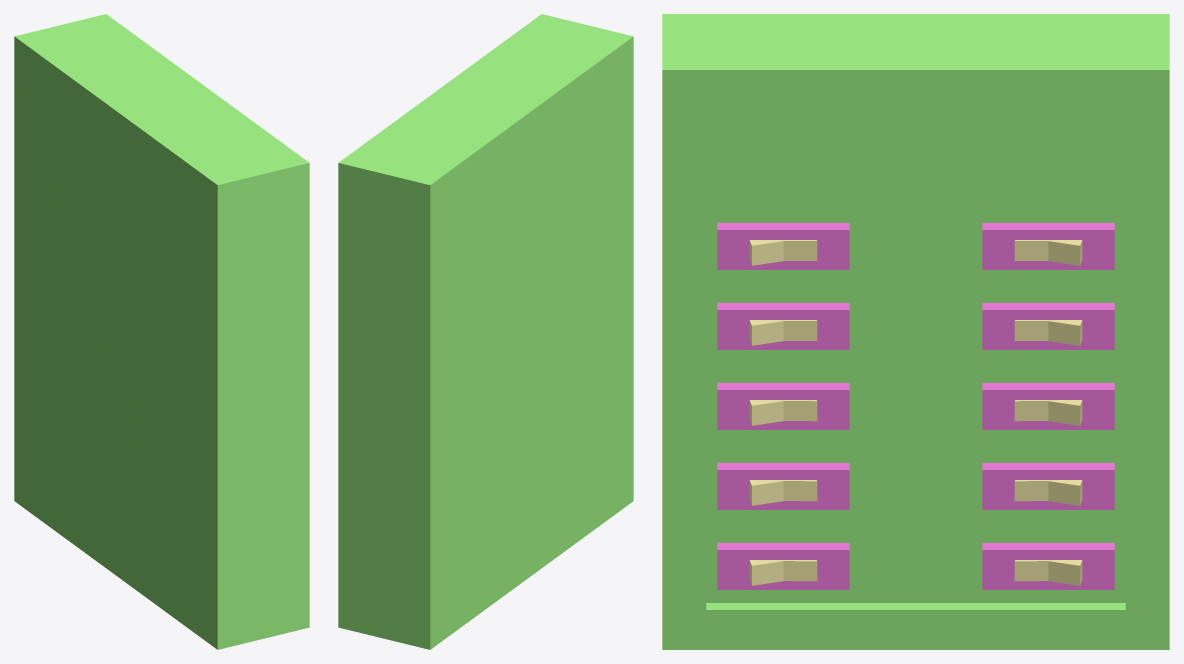
Rendered from BreakerPanel_Assembled.fbx.
The picture shows the model from 3 angles, left to right: view 1: azimuth 30°, elevation 25°; view 2: azimuth 150°, elevation 25°; view 3: azimuth 270°, elevation 25°; orthographic projection. The views are drawn at different scales.
Visible parts, largest first — view 1: Breaker_Panel_1_1; view 2: Breaker_Panel_1_1; view 3: Breaker_Panel_1_1, Breaker_Individual_1_1, Breaker_Individual_2_1, Breaker_Individual_3_1, Breaker_Individual_4_1, Breaker_Individual_5_1, Breaker_Individual_6_1, Breaker_Individual_7_1, Breaker_Individual_8_1, Breaker_Individual_9_1, Breaker_Individual_10_1, Breaker_lever_2_9 (+9 smaller).
Boxes of the visible parts, x1,y1,x2,y2 form: Breaker_Panel_1_1: (14,14,309,649); Breaker_Panel_1_1: (338,14,633,649); Breaker_Panel_1_1: (662,14,1169,649); Breaker_Individual_1_1: (717,223,849,269); Breaker_Individual_2_1: (982,223,1114,269); Breaker_Individual_3_1: (717,303,849,349); Breaker_Individual_4_1: (982,303,1114,349); Breaker_Individual_5_1: (717,383,849,429); Breaker_Individual_6_1: (982,383,1114,429); Breaker_Individual_7_1: (717,463,849,509); Breaker_Individual_8_1: (982,463,1114,509); Breaker_Individual_9_1: (717,543,849,589); Breaker_Individual_10_1: (982,543,1114,589); Breaker_lever_2_9: (749,560,817,585).
Size of the model in its own units: 3.31 by 14.5 by 11.5.
